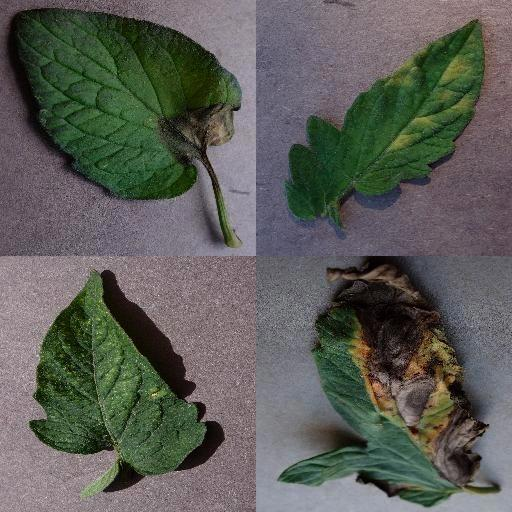Early Blight: (278, 258, 504, 510)
Late Blight: (9, 5, 245, 201)
Leaf Mold: (283, 19, 485, 223)
Spider Mites: (31, 268, 207, 478)
